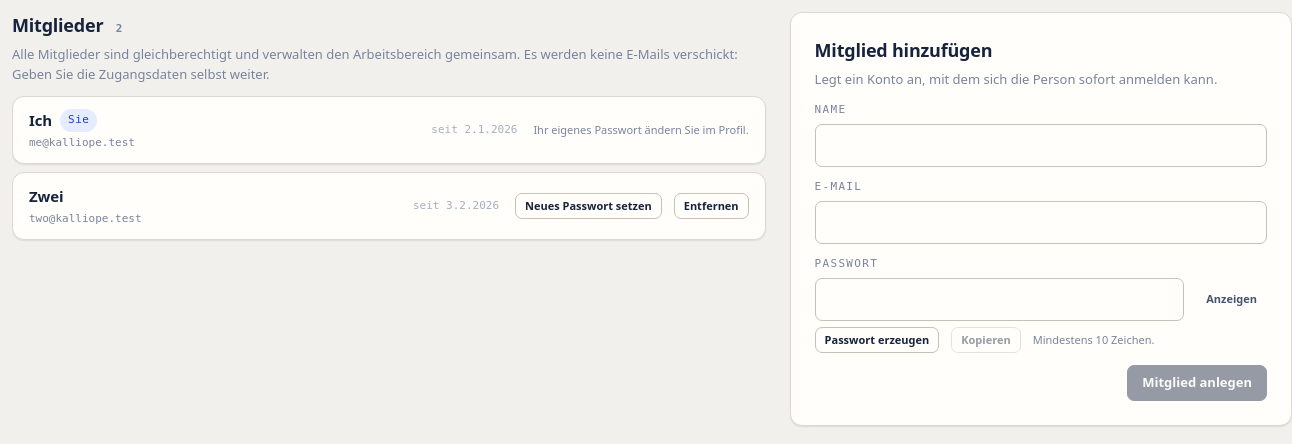
Scenario: members › removes a member only after the in-page confirmation
Click the button "Entfernen" at (711, 206), box [674, 193, 749, 219]
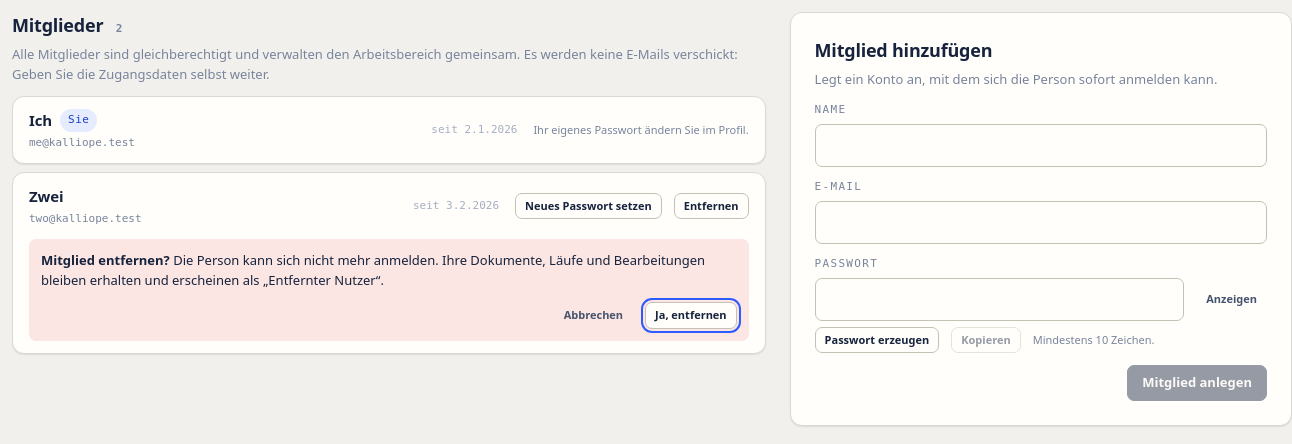
Result: the element with class "confirm" is shown at [29, 239, 749, 340]
Click the button "Ja, entfernen" at (691, 315), box [645, 302, 737, 328]
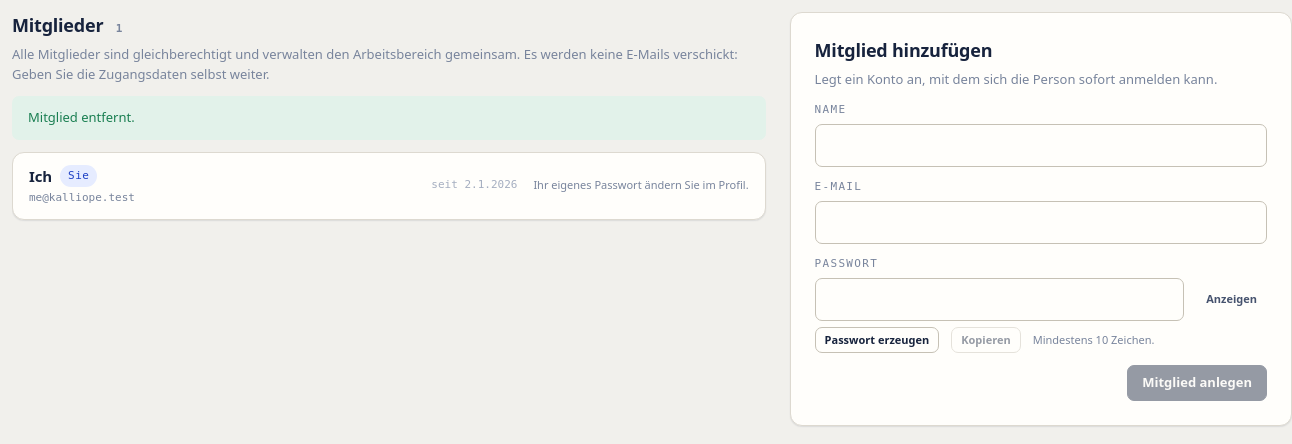
Result: the number of list items is 1 at [12, 152, 766, 220]
Result: the message "Mitglied entfernt." is shown at [12, 96, 766, 140]
